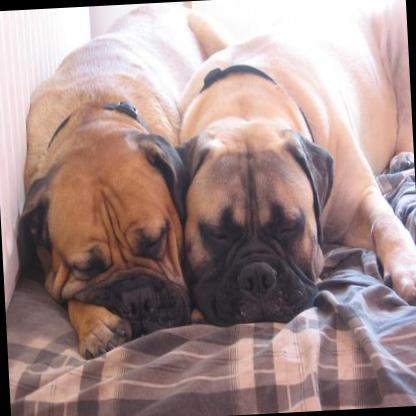bull_mastiff: (3, 0, 242, 356), (167, 0, 416, 328)
